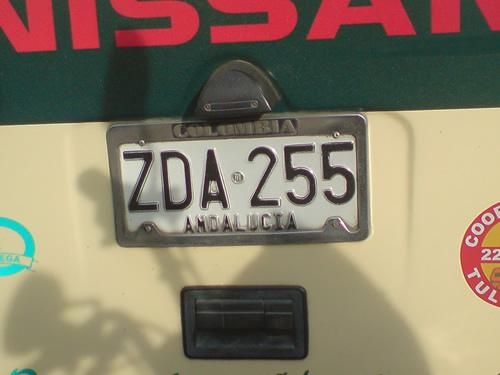placas: (116, 135, 364, 238)
